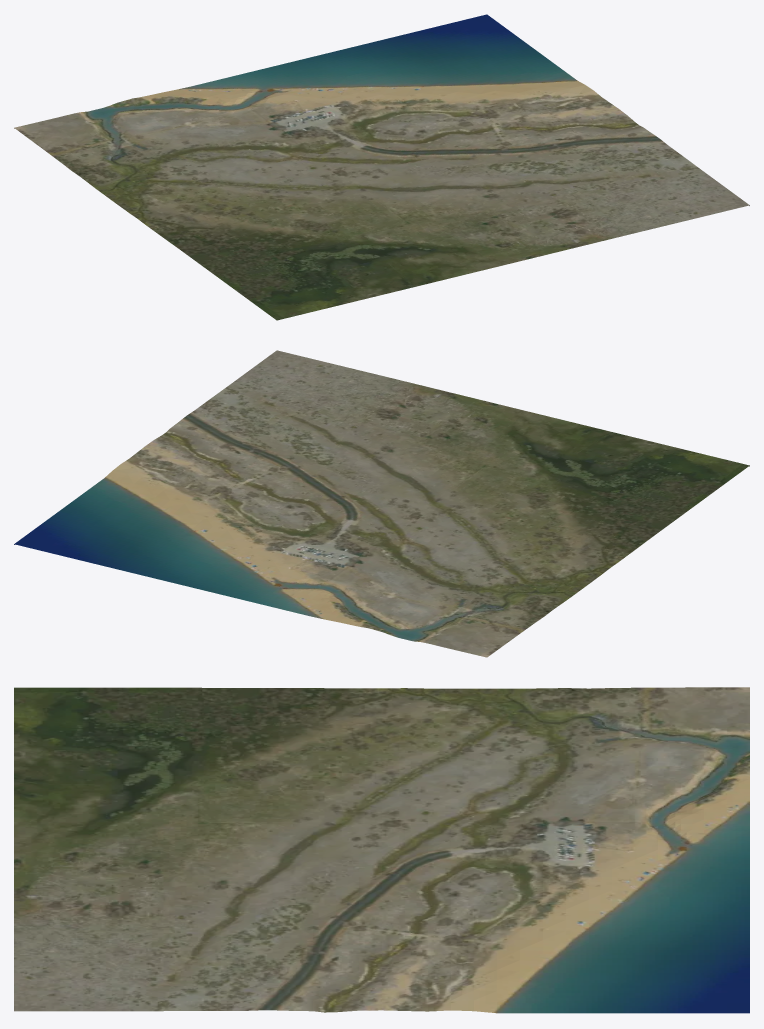
The picture shows the model from 3 angles, top to bottom: view 1: azimuth 30°, elevation 25°; view 2: azimuth 150°, elevation 25°; view 3: azimuth 270°, elevation 25°; orthographic projection. The views are drawn at different scales.
Bounding box in the file's own units: 500 × 3.53 × 481.
Materials: 1 (1 with a texture image).
